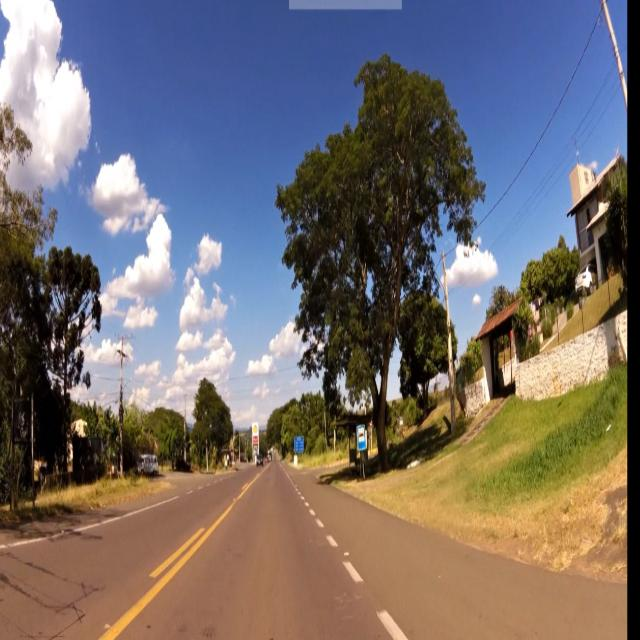S-14: (358, 423, 367, 454)
